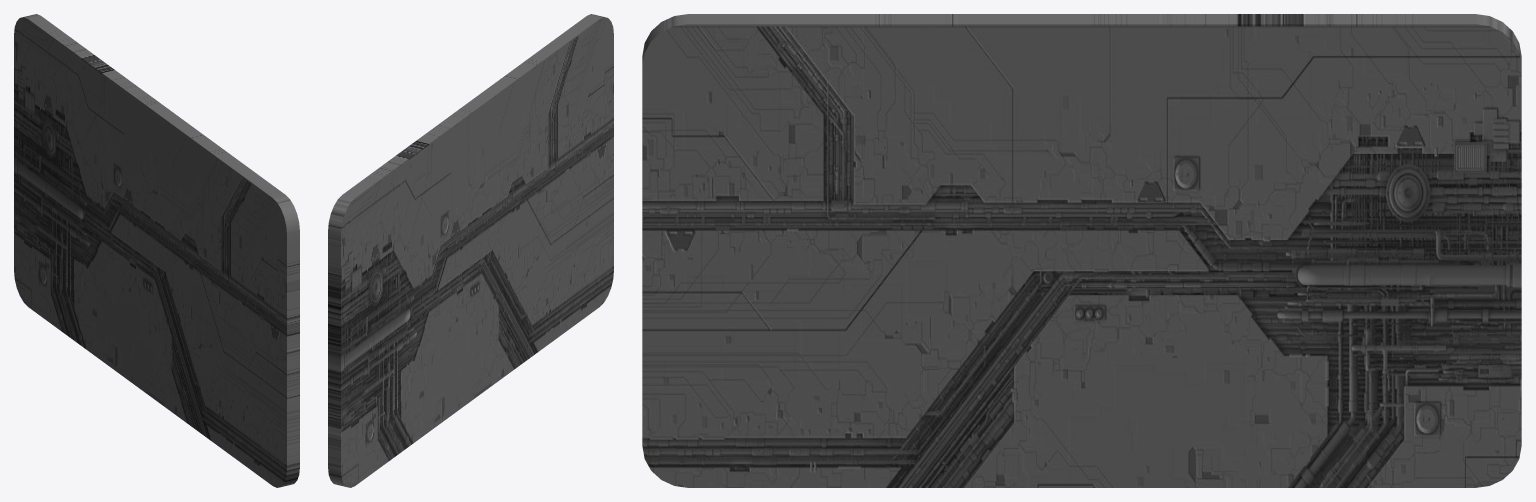
File: key-1.obj
3 views of the same model, side by side, from view 1: azimuth 30°, elevation 25°; view 2: azimuth 150°, elevation 25°; view 3: azimuth 270°, elevation 25° (orthographic). The views are drawn at different scales.
Parts seen in each view (by area): view 1: pCube1; view 2: pCube1; view 3: pCube1.
Boxes of the visible parts, x1,y1,x2,y2 form: pCube1: (14,14,299,487); pCube1: (328,14,613,487); pCube1: (642,14,1521,487).
Size of the model in its own units: 0.1227 by 2.6 by 4.47.
1 material, 1 textured.
